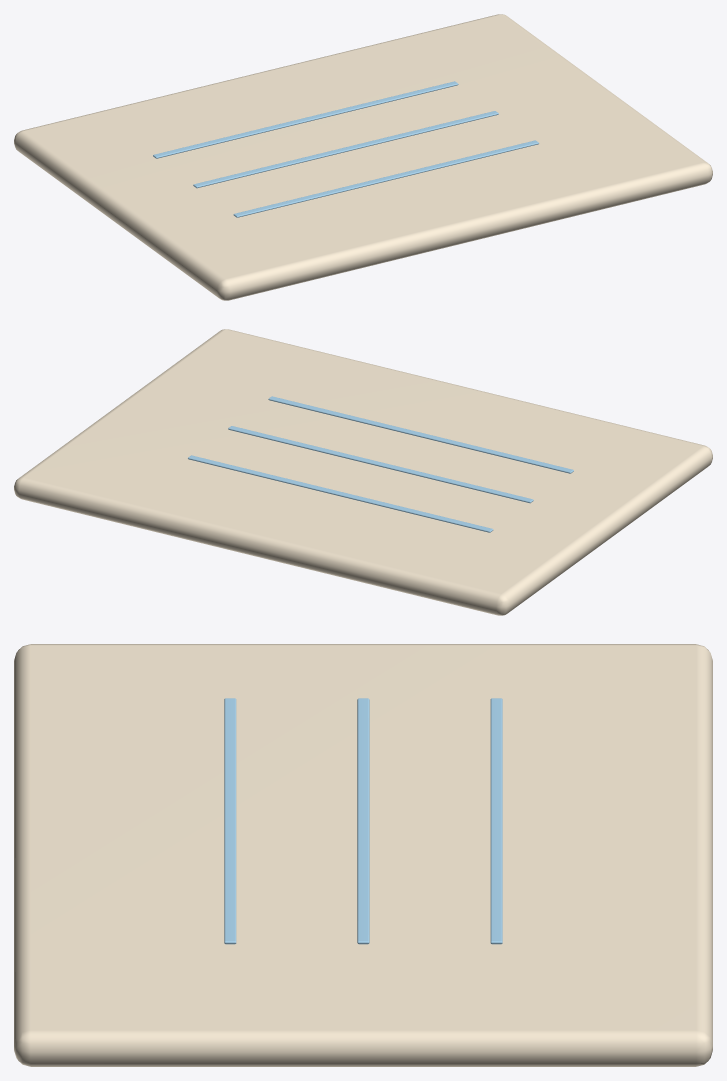
Rendered from bathroomToiletPaper.glb.
3 views of the same model, one above another, from view 1: azimuth 30°, elevation 25°; view 2: azimuth 150°, elevation 25°; view 3: azimuth 270°, elevation 25° (orthographic). The views are drawn at different scales.
Visible parts, largest first — view 1: Paper, Printed line.001, Printed line, Printed line.002; view 2: Paper, Printed line.001, Printed line.002, Printed line; view 3: Paper, Printed line, Printed line.002, Printed line.001.
Part boxes in pixels (x1=…): Paper: x1=14, y1=14, x2=712, y2=300; Printed line.001: x1=193, y1=111, x2=498, y2=188; Printed line: x1=233, y1=140, x2=538, y2=217; Printed line.002: x1=153, y1=81, x2=458, y2=158; Paper: x1=14, y1=329, x2=712, y2=615; Printed line.001: x1=228, y1=426, x2=533, y2=503; Printed line.002: x1=188, y1=455, x2=493, y2=532; Printed line: x1=268, y1=396, x2=573, y2=473; Paper: x1=14, y1=644, x2=712, y2=1066; Printed line: x1=224, y1=698, x2=236, y2=944; Printed line.002: x1=490, y1=698, x2=502, y2=944; Printed line.001: x1=357, y1=698, x2=369, y2=944.
Size of the model in its own units: 0.85 by 0.039 by 0.63.
